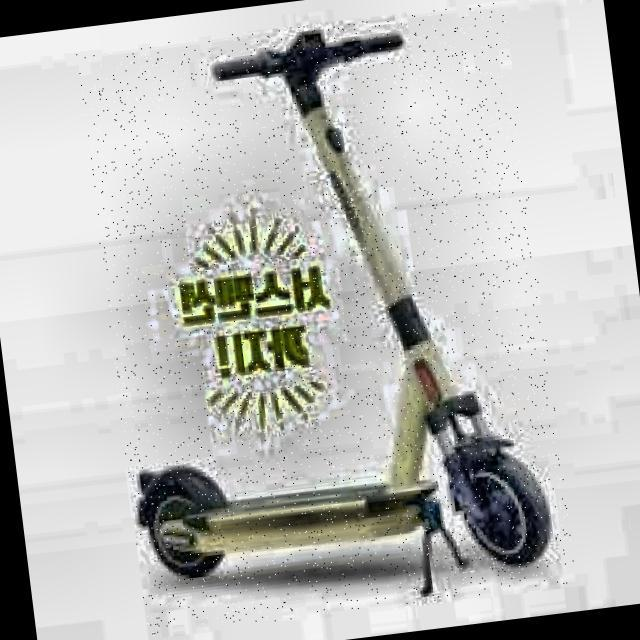bike: (125, 14, 551, 612), (428, 389, 552, 565)
